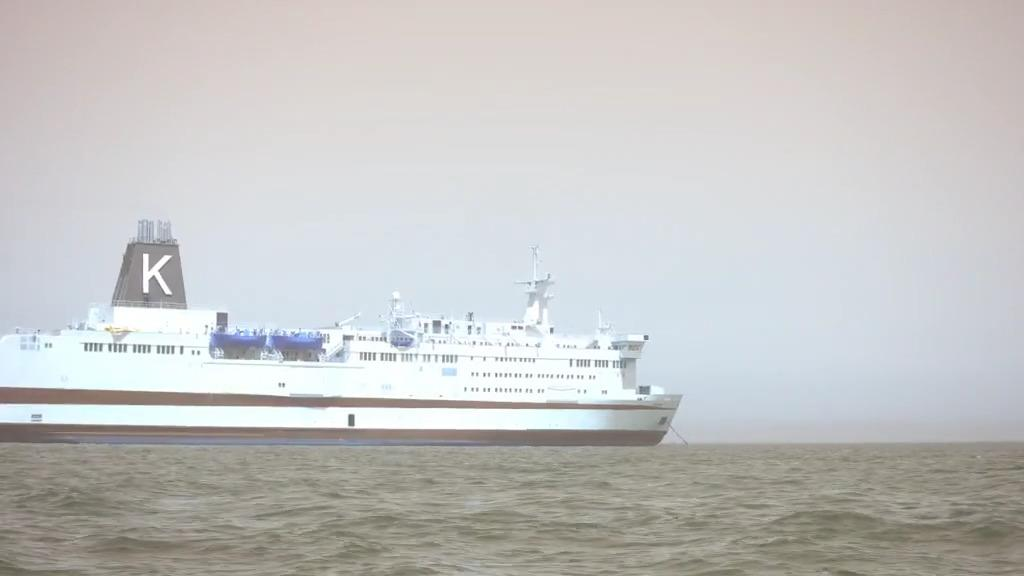PassengerShip: (0, 213, 692, 447)
